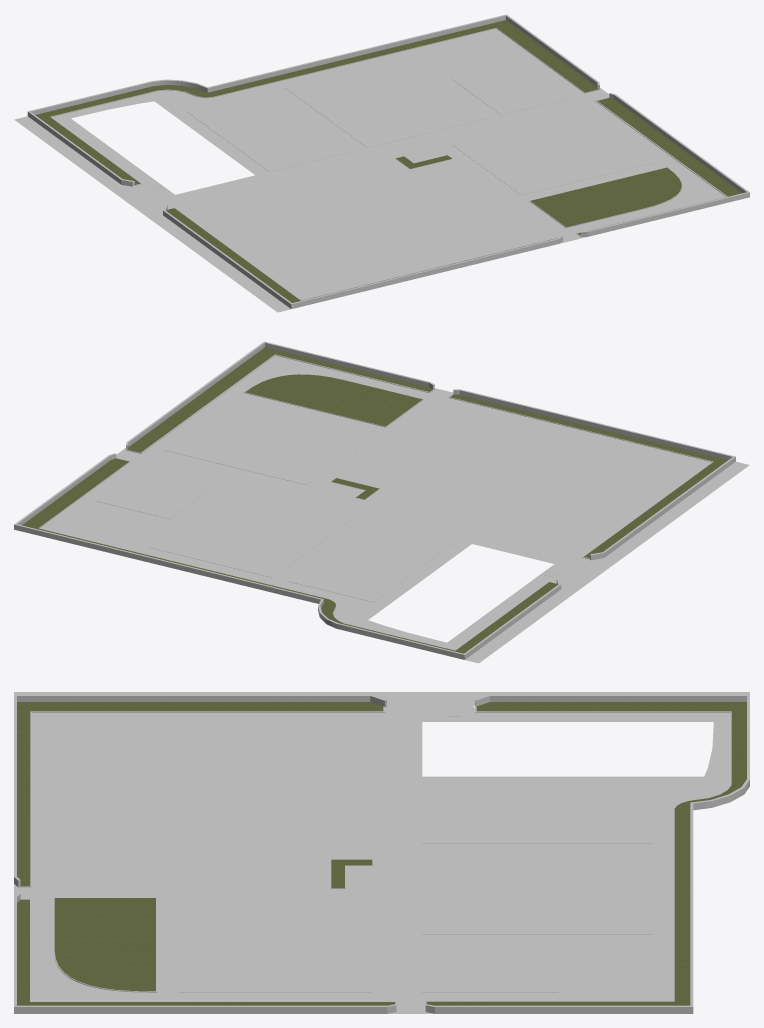
The model's file is sm_power_station_terrain_001.FBX.
3 renders of one model, top to bottom at view 1: azimuth 30°, elevation 25°; view 2: azimuth 150°, elevation 25°; view 3: azimuth 270°, elevation 25°, orthographic. The views are drawn at different scales.
Visible parts, largest first — view 1: sm_power_station_terrain_001; view 2: sm_power_station_terrain_001; view 3: sm_power_station_terrain_001.
Boxes of the visible parts, box(x1,y1,x2,y2) form: sm_power_station_terrain_001: box(14, 14, 749, 312); sm_power_station_terrain_001: box(14, 341, 749, 663); sm_power_station_terrain_001: box(14, 692, 749, 1013).
Bounding box in the file's own units: 27621 × 272 × 26704.
